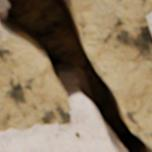brick: (0, 95, 115, 151), (145, 10, 151, 34)
broken_brick: (0, 0, 9, 15)
crack: (0, 0, 151, 151)
